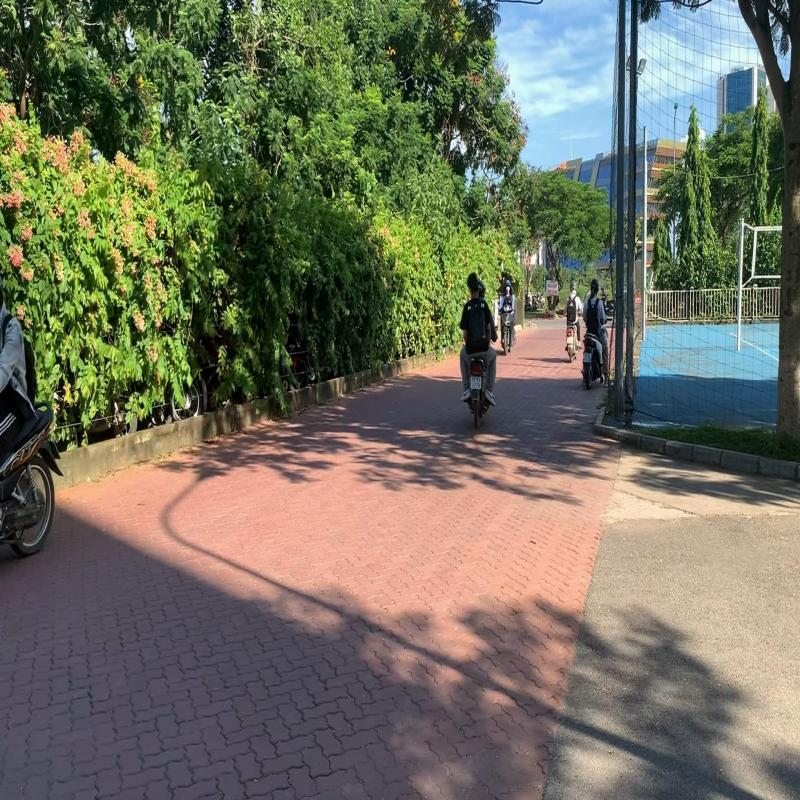nohelmet: (466, 270, 481, 297)
